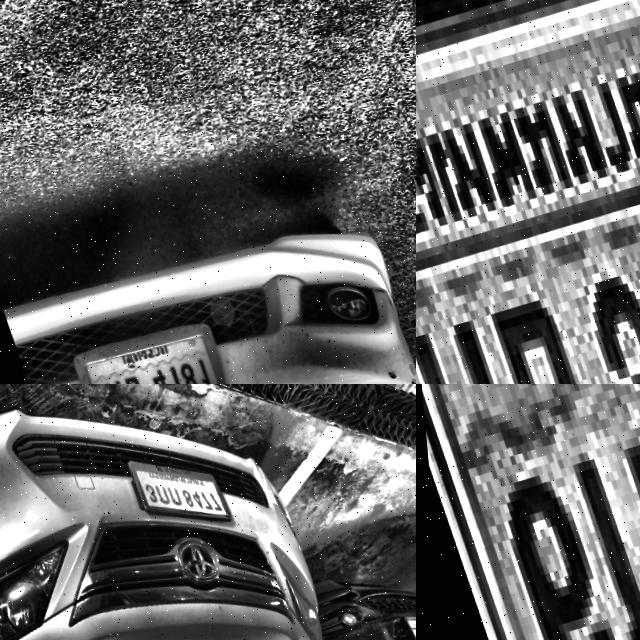license-plate: (416, 0, 640, 384), (416, 384, 640, 640), (115, 433, 234, 551), (55, 309, 233, 384), (398, 611, 416, 640)
